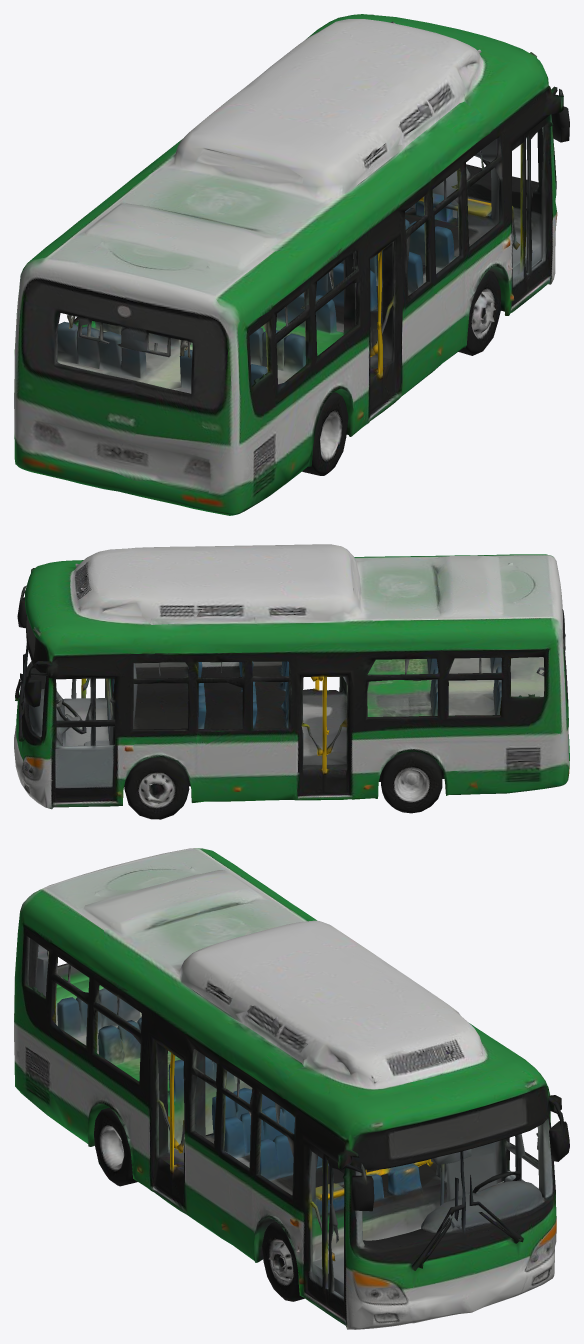
File: bus.glb
3 views of the same model, one above another, from view 1: azimuth 30°, elevation 25°; view 2: azimuth 150°, elevation 25°; view 3: azimuth 270°, elevation 25° (orthographic). The views are drawn at different scales.
Parts seen in each view (by area): view 1: tripo_node_d2a52e85-ec4f-4941-a87c-232f580e85d1; view 2: tripo_node_d2a52e85-ec4f-4941-a87c-232f580e85d1; view 3: tripo_node_d2a52e85-ec4f-4941-a87c-232f580e85d1.
Boxes of the visible parts, box(x1,y1,x2,y2) form: tripo_node_d2a52e85-ec4f-4941-a87c-232f580e85d1: box(14, 14, 569, 515); tripo_node_d2a52e85-ec4f-4941-a87c-232f580e85d1: box(14, 544, 569, 819); tripo_node_d2a52e85-ec4f-4941-a87c-232f580e85d1: box(14, 848, 569, 1329).
Bounding box in the file's own units: 7.67 × 3.2 × 6.21.
1 material, 1 textured.
